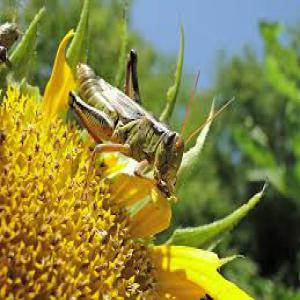locust: (68, 43, 218, 183)
